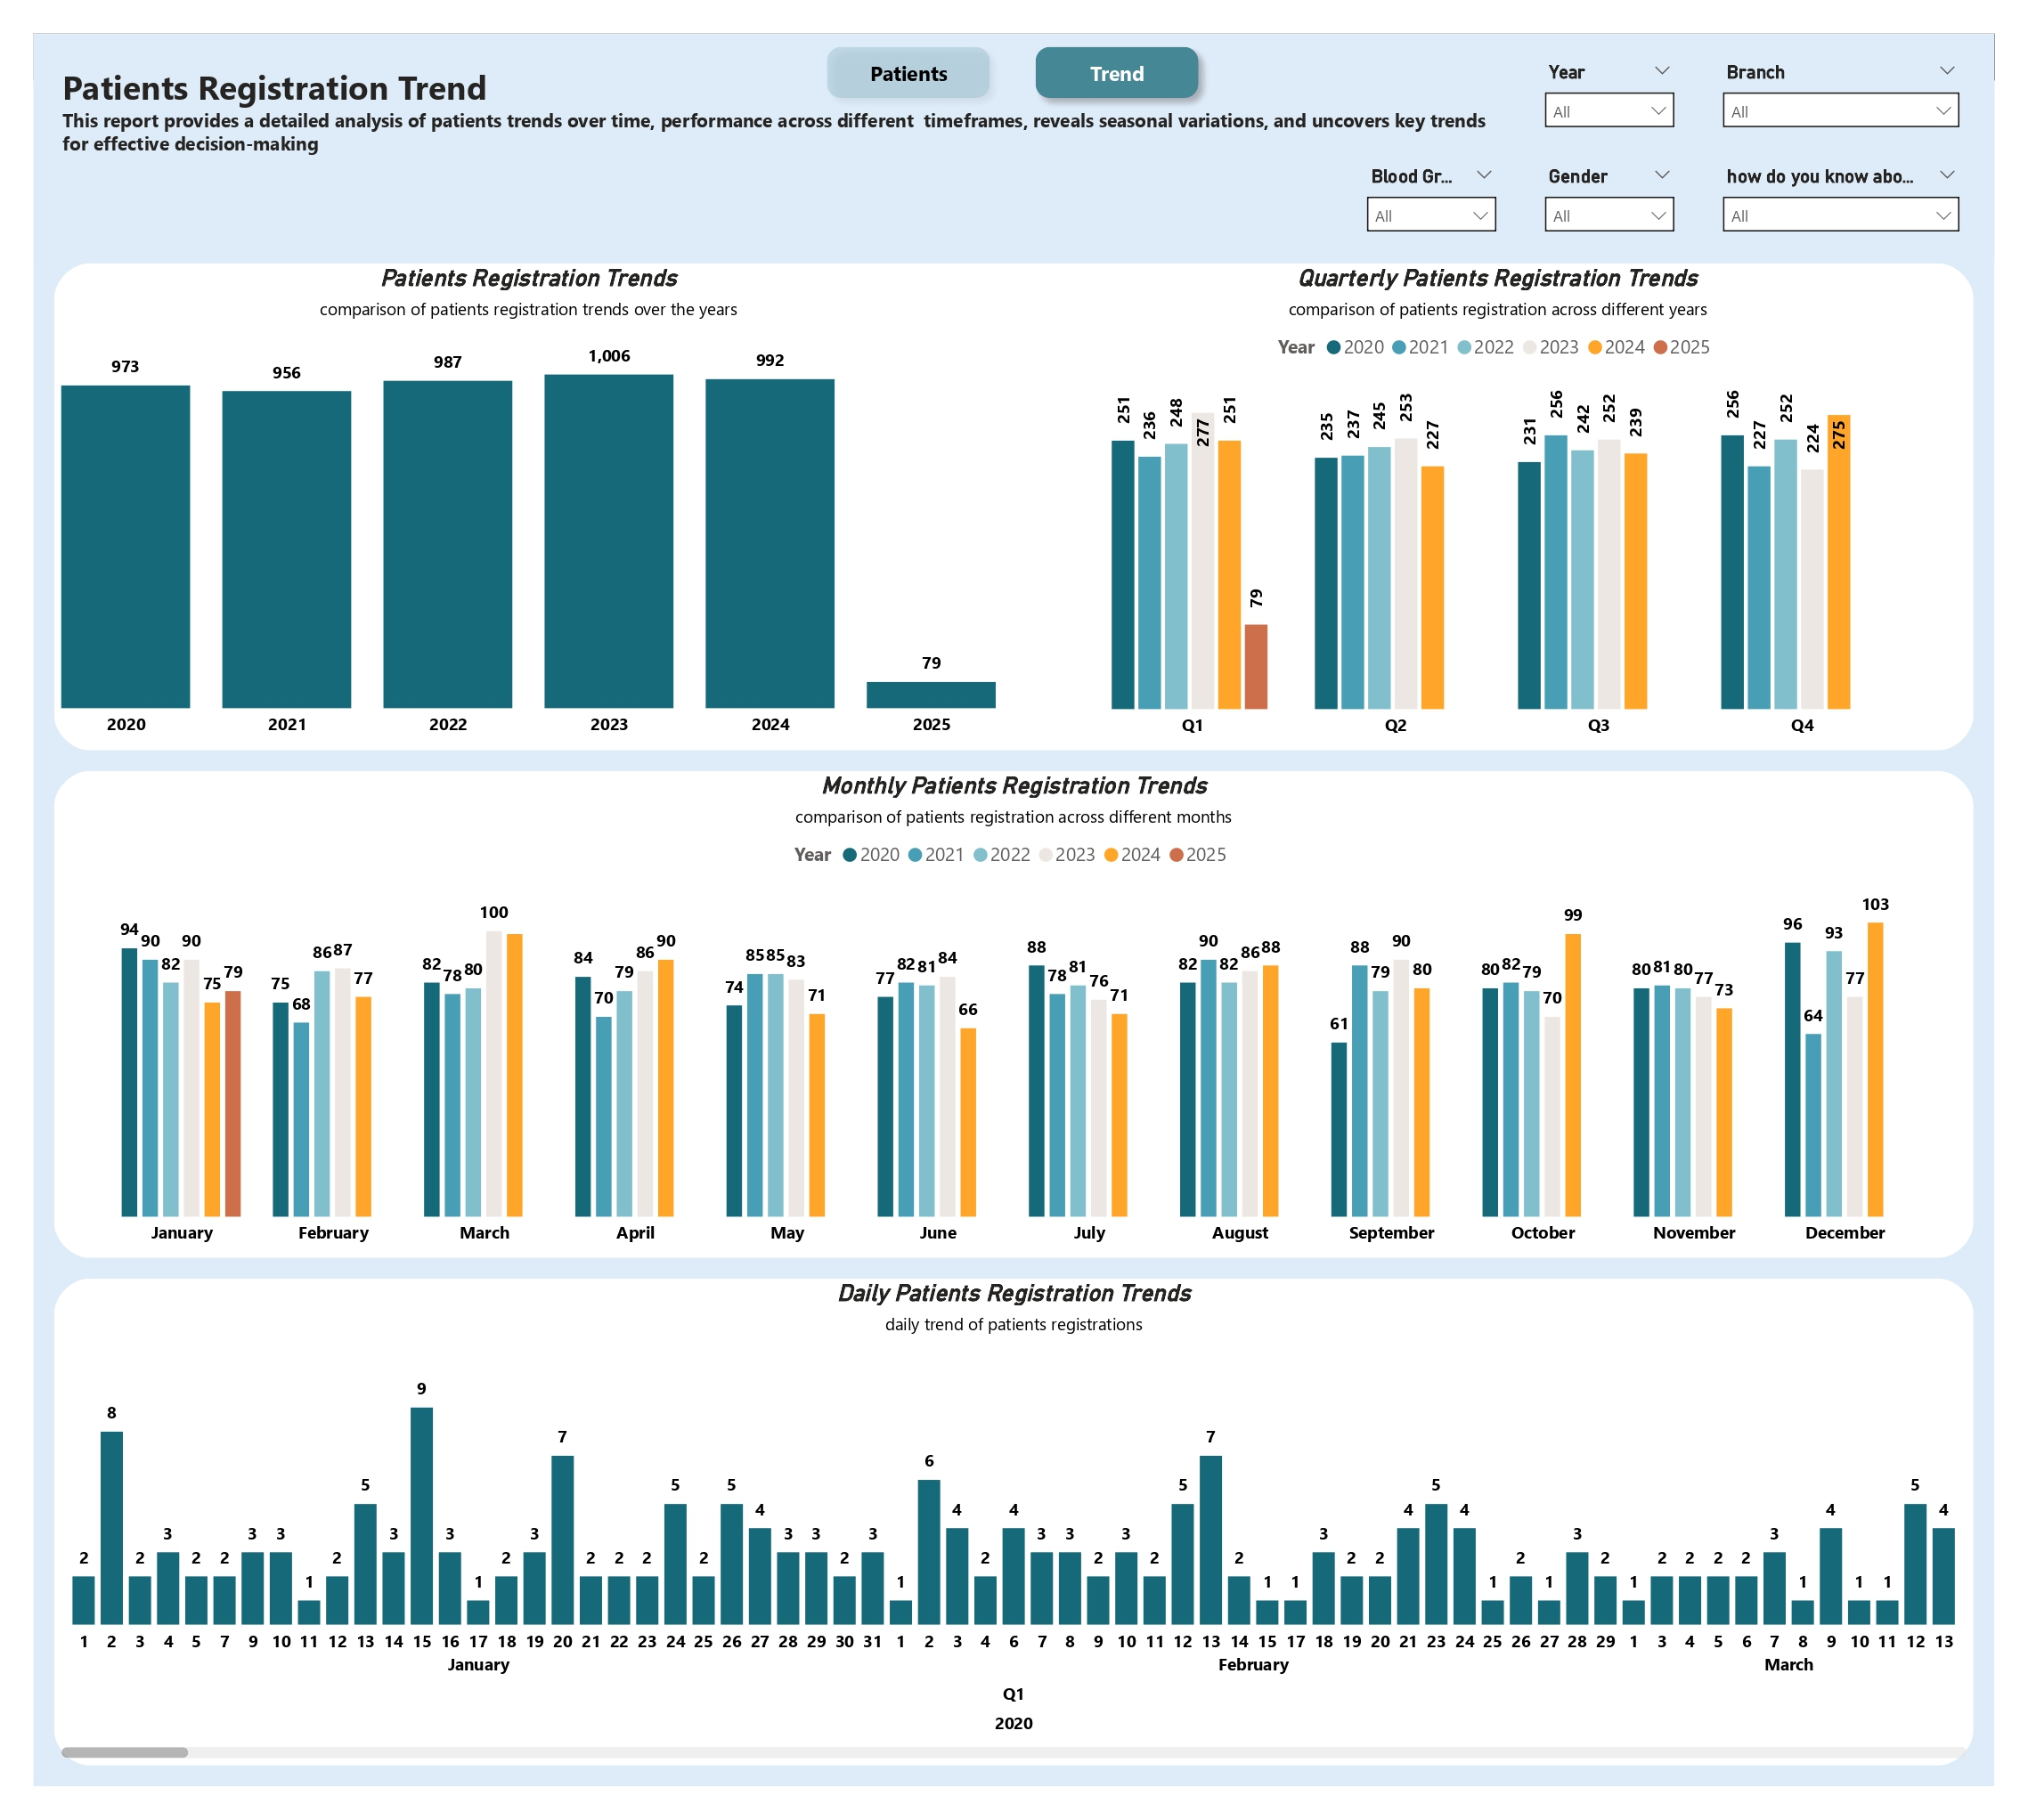

This screenshot's page, from the dashboard's own definition file:
{"tool":"powerbi","page":{"name":"Trend","canvas":[1410,1260],"ordinal":1},"visuals":[{"type":"actionButton","box":[562,0,135,55],"z":0,"group":"g3"},{"type":"shape","box":[15,895,1380,350],"z":0},{"type":"actionButton","box":[712,0,135,55],"z":1000,"group":"g3"},{"type":"slicer","fields":{"Values":["Branches.BranchNameEn"]},"box":[1205,15,190,60],"z":1000,"group":"g2"},{"type":"shape","box":[15,530,1380,350],"z":1000},{"type":"shape","box":[15,165,1380,350],"z":2000},{"type":"slicer","fields":{"Values":["DimDate.Year"]},"box":[1077,15,113,60],"z":3000,"group":"g2"},{"type":"textbox","box":[16,16,1040,80],"z":3000},{"type":"group","id":"g1","title":"Group 1","box":[920,90,471,60],"z":4000},{"type":"group","id":"g2","title":"Group 2","box":[1077,15,318,60],"z":5000},{"type":"columnChart","title":"Patients Registration Trends","fields":{"Y":["_Measures.Total Patients"],"Category":["DimDate.Year"]},"box":[15,165,682,350],"z":6000},{"type":"clusteredColumnChart","title":"Quarterly Patients Registration Trends","fields":{"Category":["DimDate.Quarter"],"Y":["_Measures.Total Patients"],"Series":["DimDate.Year"]},"box":[712,165,682,350],"z":7000},{"type":"clusteredColumnChart","title":"Monthly Patients Registration Trends","fields":{"Y":["_Measures.Total Patients"],"Series":["DimDate.Year"],"Category":["DimDate.Month Name"]},"box":[15,530,1380,350],"z":8000},{"type":"clusteredColumnChart","title":"Daily Patients Registration Trends","fields":{"Y":["_Measures.Total Patients"],"Category":["DimDate.Year","DimDate.Quarter","DimDate.Month Name","DimDate.Day"]},"box":[15,895,1380,350],"z":9000},{"type":"group","id":"g3","title":"Group 2","box":[562,0,285,55],"z":9501},{"type":"slicer","fields":{"Values":["Patients.Gender"]},"box":[1048,90,113,60],"z":11000,"group":"g1"},{"type":"slicer","fields":{"Values":["Source of Awareness Description.Descripton"]},"box":[1176,90,215,60],"z":12000,"group":"g1"},{"type":"slicer","fields":{"Values":["Blood Group Description.Descripton"]},"box":[920,90,113,60],"z":13000,"group":"g1"}]}

Visuals, with their boxes on the page's 1410x1260 design canvas (x1, y1, x2, y2). These are canvas units, not pixel positions in the 2028x1820 screenshot, which may show the page scaled, cropped or inside an application window:
actionButton: (x1=562, y1=0, x2=697, y2=55)
shape: (x1=15, y1=895, x2=1395, y2=1245)
actionButton: (x1=712, y1=0, x2=847, y2=55)
slicer - Branches.BranchNameEn: (x1=1205, y1=15, x2=1395, y2=75)
shape: (x1=15, y1=530, x2=1395, y2=880)
shape: (x1=15, y1=165, x2=1395, y2=515)
slicer - DimDate.Year: (x1=1077, y1=15, x2=1190, y2=75)
textbox: (x1=16, y1=16, x2=1056, y2=96)
"Group 1" group: (x1=920, y1=90, x2=1391, y2=150)
"Group 2" group: (x1=1077, y1=15, x2=1395, y2=75)
"Patients Registration Trends" columnChart: (x1=15, y1=165, x2=697, y2=515)
"Quarterly Patients Registration Trends" clusteredColumnChart: (x1=712, y1=165, x2=1394, y2=515)
"Monthly Patients Registration Trends" clusteredColumnChart: (x1=15, y1=530, x2=1395, y2=880)
"Daily Patients Registration Trends" clusteredColumnChart: (x1=15, y1=895, x2=1395, y2=1245)
"Group 2" group: (x1=562, y1=0, x2=847, y2=55)
slicer - Patients.Gender: (x1=1048, y1=90, x2=1161, y2=150)
slicer - Source of Awareness Description.Descripton: (x1=1176, y1=90, x2=1391, y2=150)
slicer - Blood Group Description.Descripton: (x1=920, y1=90, x2=1033, y2=150)
